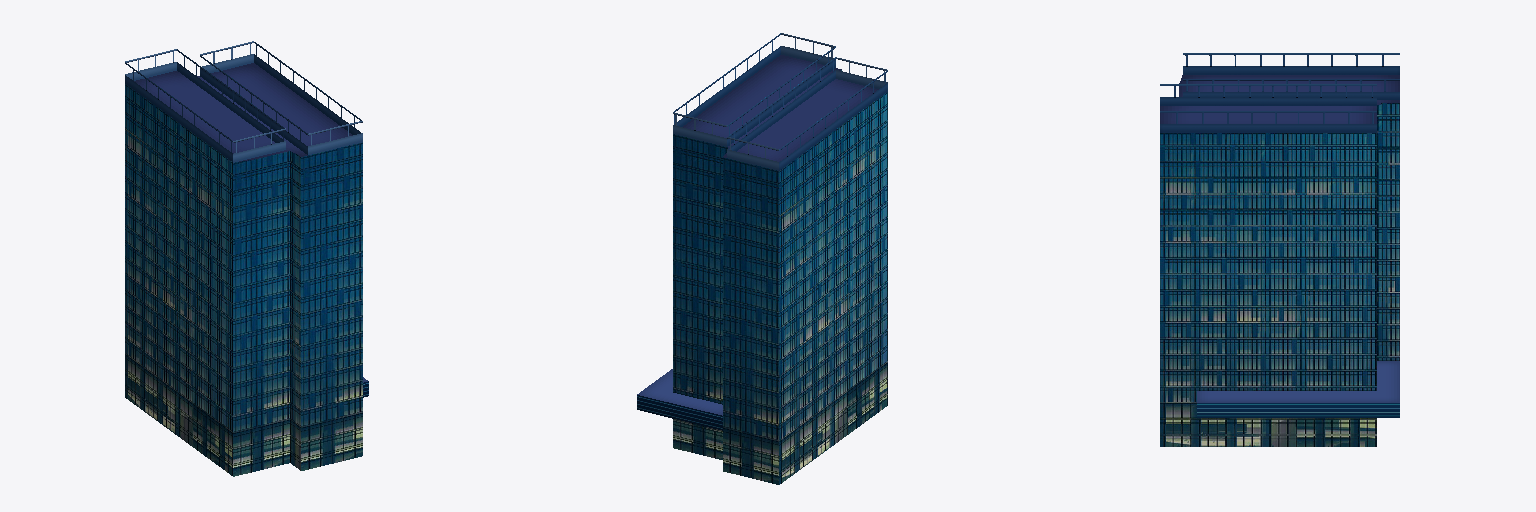
The picture shows the model from 3 angles: view 1: azimuth 30°, elevation 25°; view 2: azimuth 150°, elevation 25°; view 3: azimuth 270°, elevation 25°; orthographic projection.
Parts seen in each view (by area): view 1: outdoor_building_ljz_01_pCube39 outdoor_building_ljz_01_polySurf, outdoor_building_ljz_01_polySurface1 outdoor_building_ljz_01_pol; view 2: outdoor_building_ljz_01_pCube39 outdoor_building_ljz_01_polySurf, outdoor_building_ljz_01_polySurface1 outdoor_building_ljz_01_pol, outdoor_building_ljz_01_pCube40 outdoor_building_ljz_01_polySurf; view 3: outdoor_building_ljz_01_pCube39 outdoor_building_ljz_01_polySurf, outdoor_building_ljz_01_polySurface1 outdoor_building_ljz_01_pol, outdoor_building_ljz_01_pCube40 outdoor_building_ljz_01_polySurf.
Part boxes in pixels (bbox=[...]): outdoor_building_ljz_01_pCube39 outdoor_building_ljz_01_polySurf: bbox=[125, 63, 362, 476]; outdoor_building_ljz_01_polySurface1 outdoor_building_ljz_01_pol: bbox=[125, 41, 362, 162]; outdoor_building_ljz_01_pCube39 outdoor_building_ljz_01_polySurf: bbox=[673, 55, 887, 484]; outdoor_building_ljz_01_polySurface1 outdoor_building_ljz_01_pol: bbox=[673, 33, 887, 170]; outdoor_building_ljz_01_pCube40 outdoor_building_ljz_01_polySurf: bbox=[637, 369, 722, 430]; outdoor_building_ljz_01_pCube39 outdoor_building_ljz_01_polySurf: bbox=[1160, 75, 1399, 446]; outdoor_building_ljz_01_polySurface1 outdoor_building_ljz_01_pol: bbox=[1160, 53, 1399, 132]; outdoor_building_ljz_01_pCube40 outdoor_building_ljz_01_polySurf: bbox=[1197, 361, 1399, 417].
Bounding box in the file's own units: 92.01 × 207 × 134.
Materials: 2 (2 with a texture image).